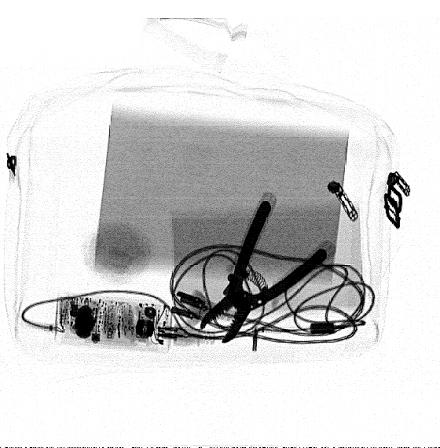Pliers: (199, 198, 329, 343)
